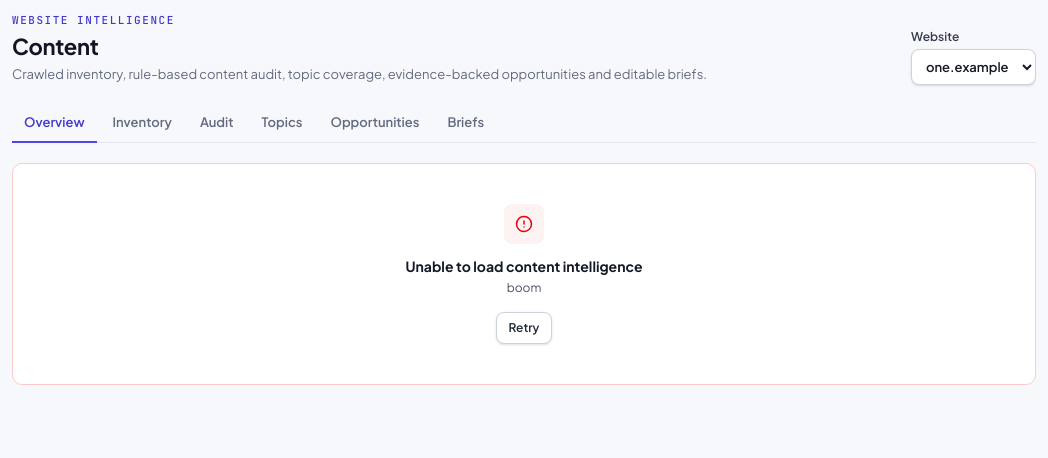
Test case: Content overview › shows an error with retry, and the server's answer to 'Analyse now'
The width and height of the screenshot is (1048, 458).
Expected: the text "Unable to load content intelligence" is shown, [406, 256, 643, 276]
Click the button "Retry".
click(524, 328)  # box [496, 312, 552, 344]
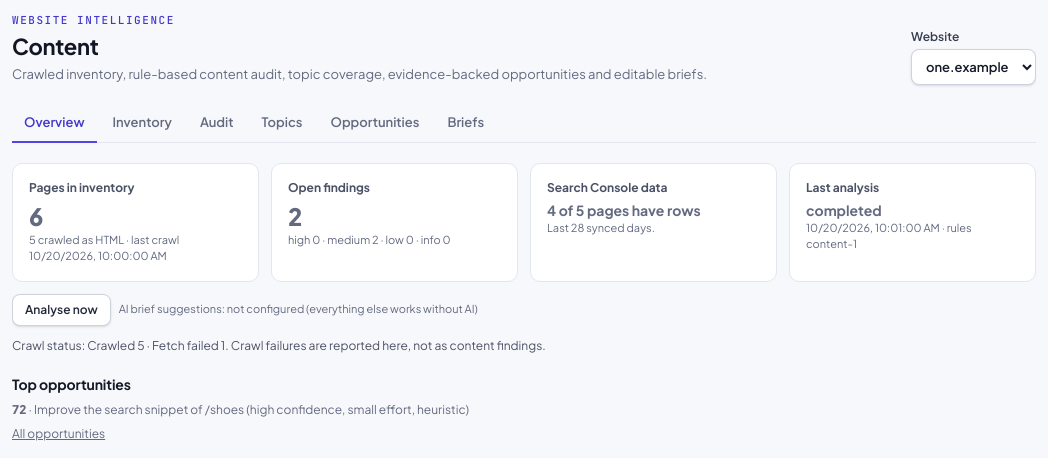
Click the button "Analyse now".
click(61, 310)  # box [12, 294, 111, 326]
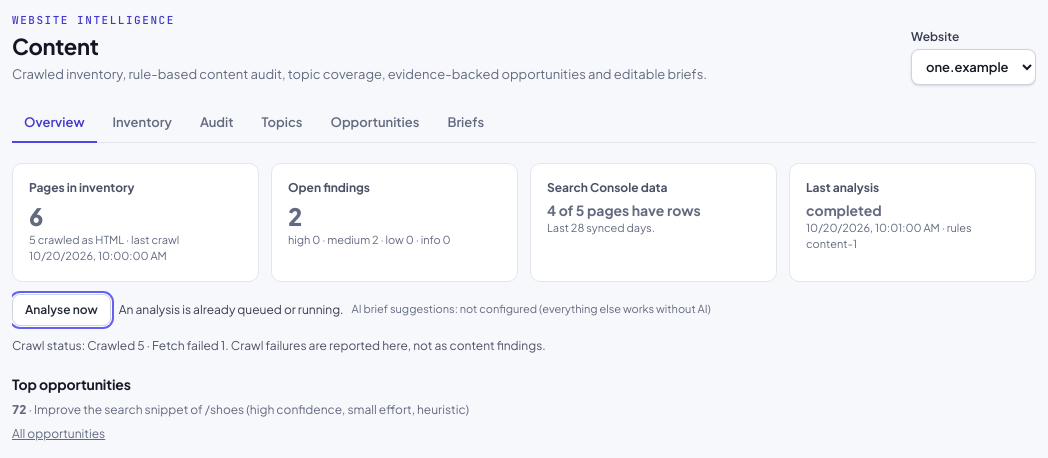
Expected: the text "An analysis is already queued or running." is shown, [119, 302, 344, 318]
